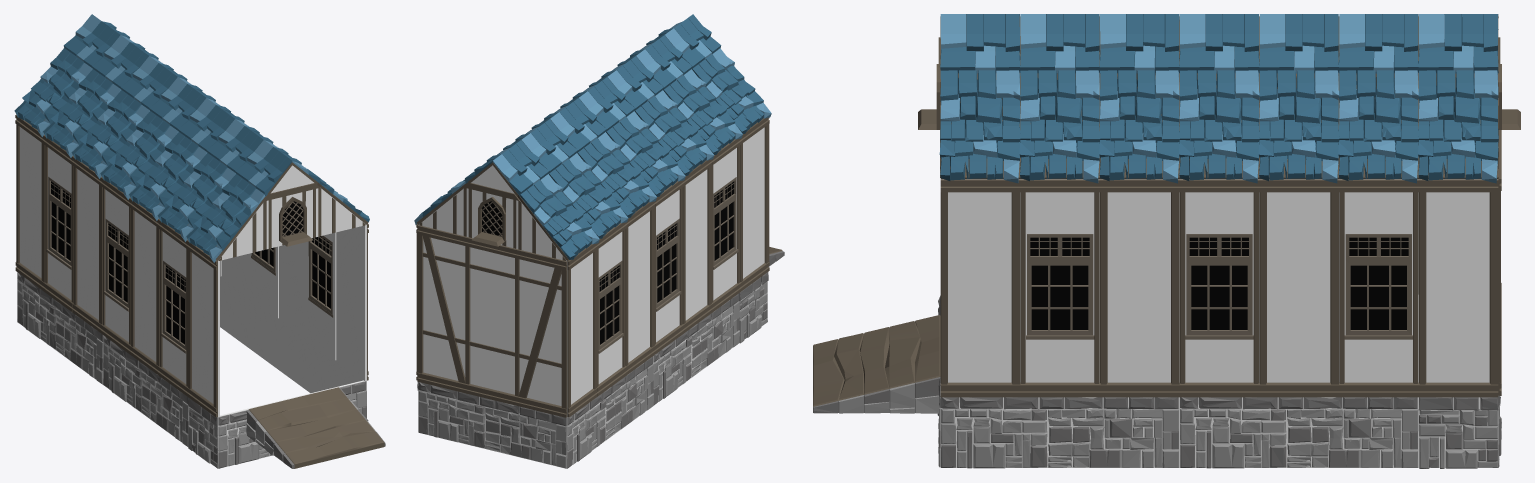
Rendered from House_04_parts.fbx.
3 renders of one model, left to right at view 1: azimuth 30°, elevation 25°; view 2: azimuth 150°, elevation 25°; view 3: azimuth 270°, elevation 25°, orthographic. The views are drawn at different scales.
Parts seen in each view (by area): view 1: STAIRS_05_3, WALL_03_7, WALL_03_9, WALL_03_10, WALL_03_3, WINDOW_04_7, WINDOW_04_8, WALL_03_8, WINDOW_04_6, FOUNDATION_02_16, FOUNDATION_02_15, WINDOW_04_3 (+26 smaller); view 2: WALL_02_2, FOUNDATION_02_17, WALL_03_10, WALL_03_8, WALL_03_9, WALL_03_7, WINDOW_04_8, WINDOW_04_7, FOUNDATION_02_16, WINDOW_04_6, FOUNDATION_02_15, ROOF_base_10 (+19 smaller); view 3: WINDOW_04_4, WALL_03_3, WALL_03_6, WALL_03_5, WINDOW_04_5, WINDOW_04_3, WALL_03_4, FOUNDATION_02_18, FOUNDATION_02_19, STAIRS_05_3, ROOF_base_9, ROOF_base_6 (+14 smaller).
Part boxes in pixels (x1,y1,x2,y2): STAIRS_05_3: [246, 387, 385, 468]; WALL_03_7: [187, 240, 219, 417]; WALL_03_9: [72, 156, 102, 332]; WALL_03_10: [15, 114, 45, 291]; WALL_03_3: [336, 224, 368, 380]; WINDOW_04_7: [101, 177, 131, 354]; WINDOW_04_8: [44, 136, 73, 312]; WALL_03_8: [130, 198, 159, 374]; WINDOW_04_6: [158, 219, 188, 395]; FOUNDATION_02_16: [17, 272, 103, 384]; FOUNDATION_02_15: [103, 335, 189, 446]; WINDOW_04_3: [306, 232, 336, 360]; WALL_02_2: [417, 225, 567, 417]; FOUNDATION_02_17: [418, 382, 566, 468]; WALL_03_10: [567, 243, 597, 417]; WALL_03_8: [682, 159, 712, 333]; WALL_03_9: [625, 201, 654, 374]; WALL_03_7: [740, 117, 769, 291]; WINDOW_04_8: [596, 222, 626, 396]; WINDOW_04_7: [654, 180, 683, 354]; FOUNDATION_02_16: [566, 356, 653, 468]; WINDOW_04_6: [711, 138, 741, 312]; FOUNDATION_02_15: [653, 293, 739, 405]; ROOF_base_10: [517, 174, 599, 260]; WINDOW_04_4: [1179, 179, 1259, 397]; WALL_03_3: [940, 179, 1020, 397]; WALL_03_6: [1418, 179, 1498, 397]; WALL_03_5: [1259, 179, 1338, 397]; WINDOW_04_5: [1339, 179, 1418, 397]; WINDOW_04_3: [1020, 179, 1099, 397]; WALL_03_4: [1100, 179, 1179, 397]; FOUNDATION_02_18: [1179, 397, 1418, 468]; FOUNDATION_02_19: [940, 397, 1179, 468]; STAIRS_05_3: [813, 315, 940, 413]; ROOF_base_9: [1418, 70, 1498, 183]; ROOF_base_6: [1178, 68, 1259, 183].
Bounding box in the file's own units: 320 × 559 × 888.
